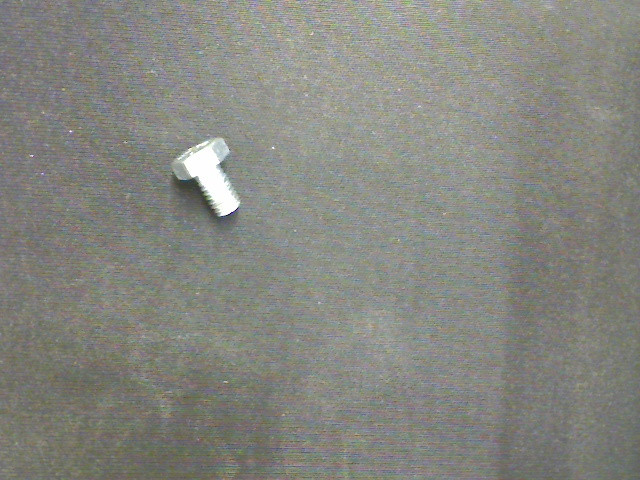screw9: (172, 137, 242, 219)
